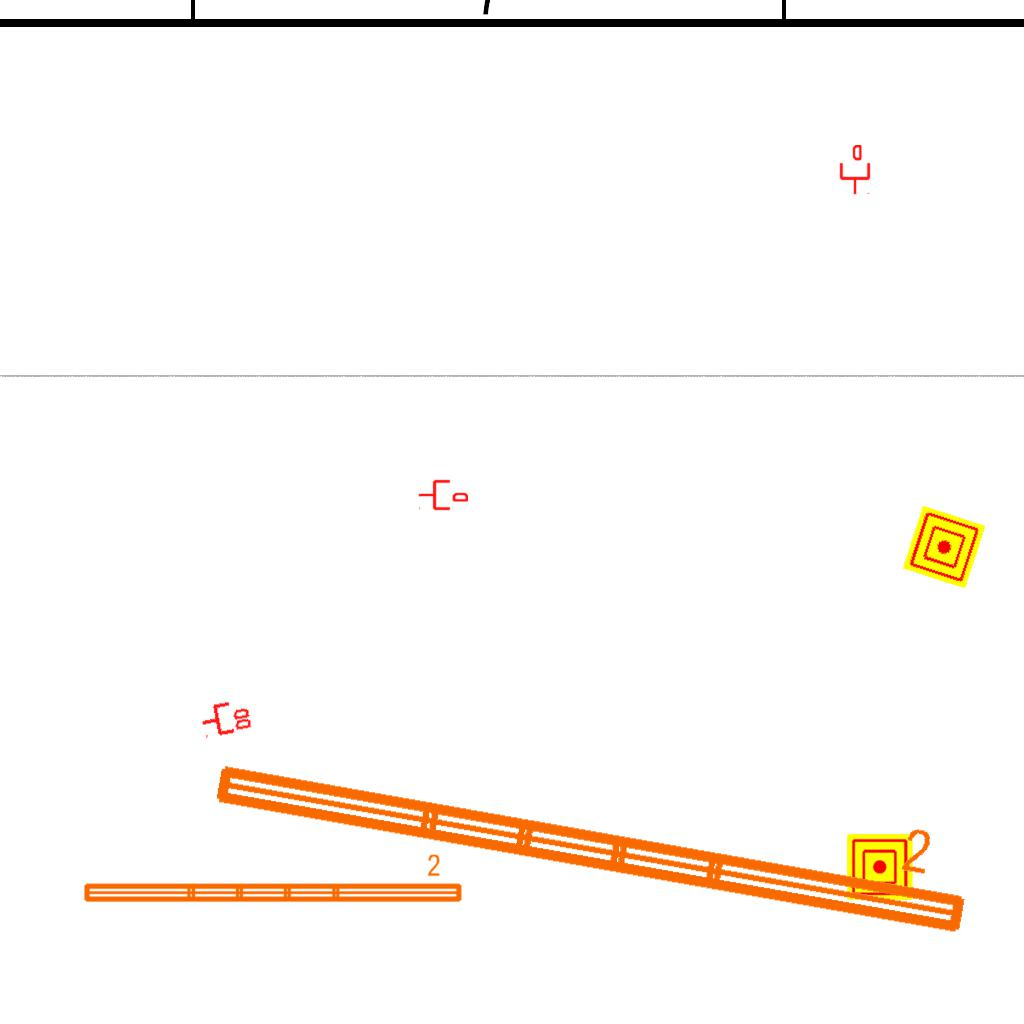Ambulanz_Pendelleuchte_LED: (203, 701, 985, 947), (79, 852, 466, 908)
Datenanschluss_einfach: (838, 145, 872, 195), (418, 478, 468, 512)
Datenanschluss_zweifach: (197, 695, 255, 740)
NAM-Nichtautomatischer_Melder: (902, 505, 986, 589), (847, 834, 913, 900)
